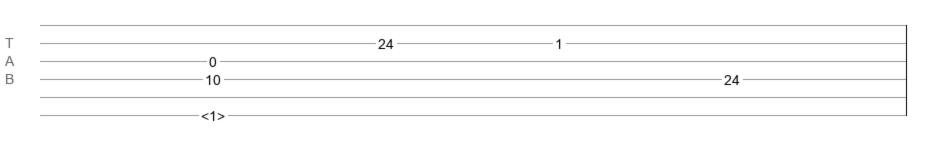0: (209, 54, 217, 64)
1: (555, 36, 563, 46)
10: (205, 72, 221, 82)
24: (378, 36, 394, 46), (724, 72, 740, 82)
harmonic: (201, 108, 225, 118)
